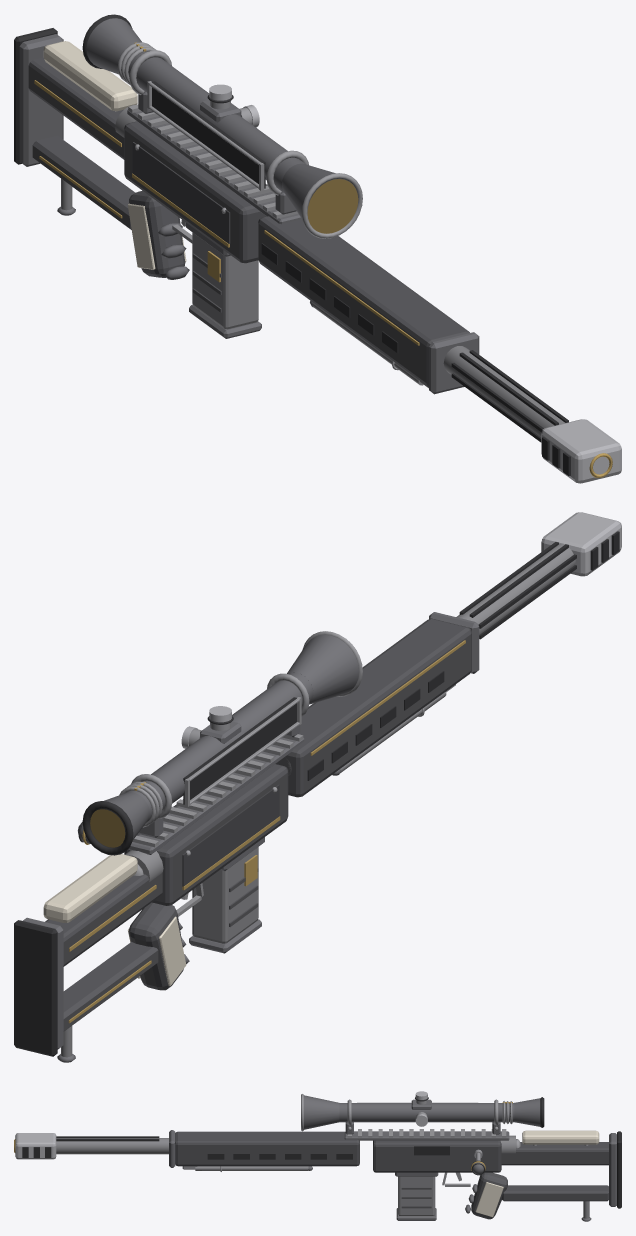
File: longshot.glb
3 views of the same model, one above another, from view 1: azimuth 30°, elevation 25°; view 2: azimuth 150°, elevation 25°; view 3: azimuth 270°, elevation 25° (orthographic). The views are drawn at different scales.
Visible parts, largest first — view 1: black.009, black.008, steel*0.009, black*1.007, black.018, black.017, edge.004, black*0.016, black*1.021, bone.003, black*0.020, steel*0.005 (+12 smaller); view 2: black.009, black*0.044, black.008, black*1.007, steel*0.009, black.017, black.018, black*0.016, black*1.008, bone.003, edge.004, black*0.020 (+9 smaller); view 3: black.009, black.008, black*1.007, black.017, black.018, steel*0.005, steel*0.009, black*1.005, bone.003, black*1.008, edge.004, black.016 (+12 smaller).
Part boxes in pixels (box(x1,y1,x2,y2)): black.009: box(258, 216, 469, 386); black.008: box(124, 121, 267, 263); steel*0.009: box(192, 232, 258, 329); black*1.007: box(118, 46, 305, 193); black.018: box(32, 136, 135, 229); black.017: box(28, 57, 124, 159); edge.004: box(541, 419, 621, 483); black*0.016: box(132, 142, 230, 243); black*1.021: box(19, 34, 63, 166); bone.003: box(43, 41, 137, 111); black*0.020: box(152, 81, 265, 188); steel*0.005: box(443, 346, 565, 437); black.009: box(275, 619, 471, 797); black*0.044: box(14, 920, 57, 1056); black.008: box(124, 764, 288, 905); black*1.007: box(126, 672, 313, 822); steel*0.009: box(192, 847, 258, 943); black.017: box(45, 873, 162, 966); black.018: box(63, 942, 158, 1031); black*0.016: box(182, 784, 279, 886); black*1.008: box(287, 634, 358, 704); bone.003: box(43, 854, 137, 922); edge.004: box(541, 512, 621, 576); black*0.020: box(183, 697, 296, 804); black.009: box(175, 1131, 359, 1166); black.008: box(373, 1140, 501, 1172); black*1.007: box(339, 1103, 514, 1122); black.017: box(501, 1142, 608, 1165); black.018: box(501, 1185, 608, 1201); steel*0.005: box(55, 1138, 168, 1154); steel*0.009: box(398, 1176, 435, 1215); black*1.005: box(344, 1131, 509, 1140); bone.003: box(522, 1130, 599, 1144); black*1.008: box(304, 1095, 339, 1129); edge.004: box(15, 1133, 56, 1159); black.016: box(471, 1172, 507, 1219).
Size of the model in its own units: 0.1427 by 0.272 by 1.18.
